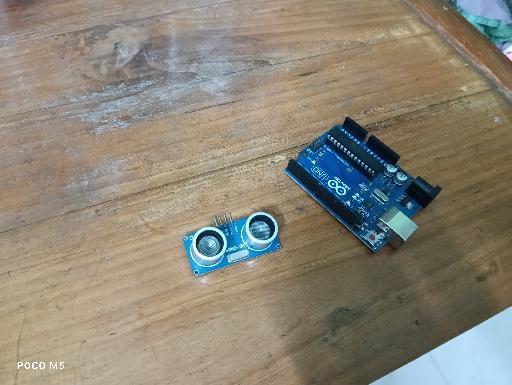Arduino: (285, 116, 443, 256)
sensor: (182, 212, 283, 278)
